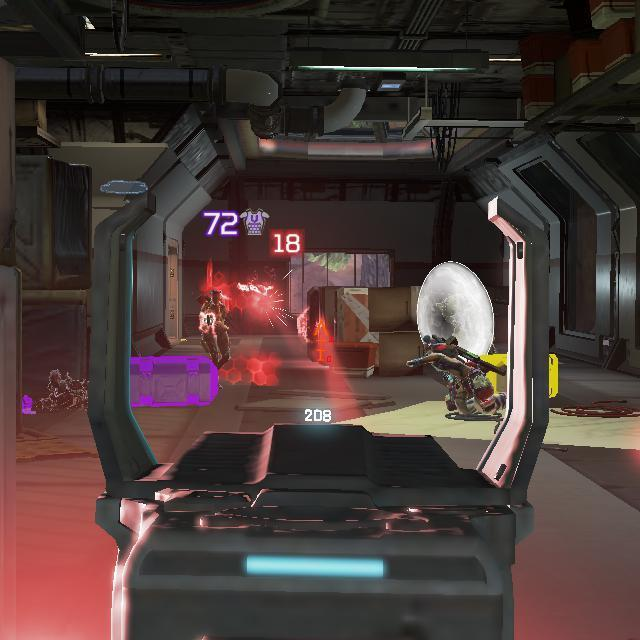avatar: (419, 334, 507, 423), (197, 288, 232, 370)
